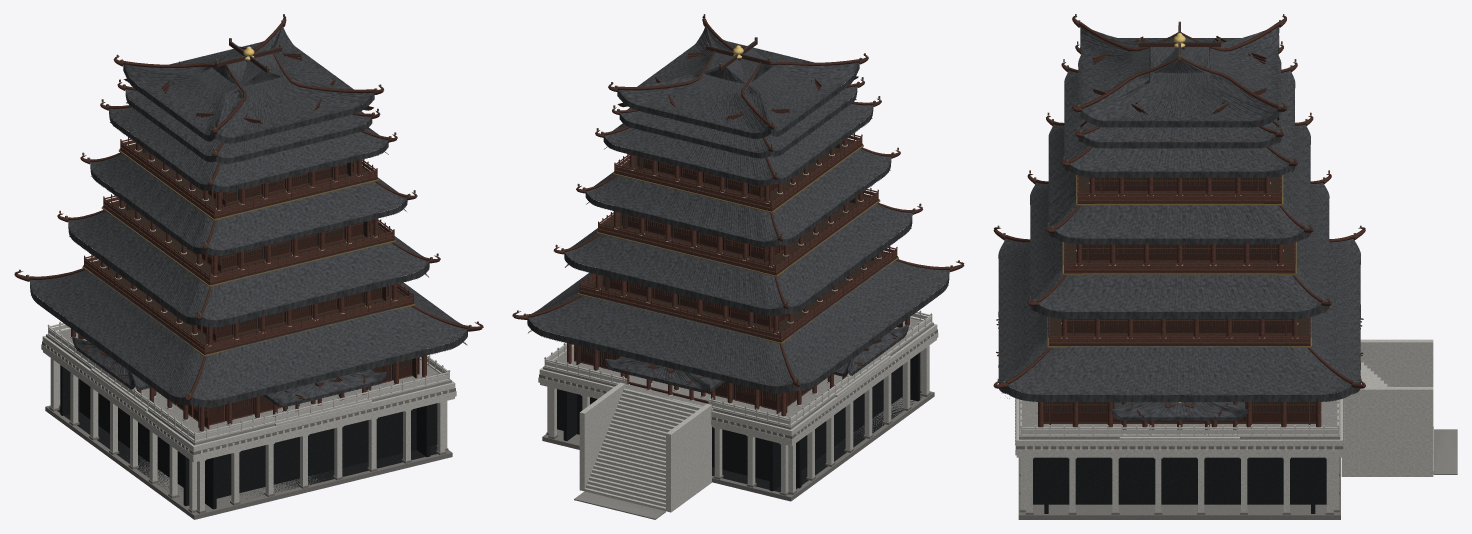
3 views of the same model, side by side, from view 1: azimuth 30°, elevation 25°; view 2: azimuth 150°, elevation 25°; view 3: azimuth 270°, elevation 25° (orthographic). The views are drawn at different scales.
Visible parts, largest first — view 1: Pavilion_Roof, Podium, Pavilion_Body, Pavilion_Detail; view 2: Pavilion_Roof, Podium, Pavilion_Body, Pavilion_Detail, EntranceLanding; view 3: Pavilion_Roof, Podium, Pavilion_Body, Pavilion_Detail, EntranceLanding.
Part boxes in pixels (bbox=[...]): Pavilion_Roof: bbox=[30, 26, 467, 407]; Podium: bbox=[41, 321, 456, 519]; Pavilion_Body: bbox=[70, 111, 427, 432]; Pavilion_Detail: bbox=[14, 14, 483, 401]; Pavilion_Roof: bbox=[527, 25, 949, 393]; Podium: bbox=[538, 310, 938, 512]; Pavilion_Body: bbox=[566, 107, 910, 417]; Pavilion_Detail: bbox=[512, 14, 964, 387]; EntranceLanding: bbox=[574, 491, 665, 519]; Pavilion_Roof: bbox=[996, 26, 1363, 420]; Podium: bbox=[1015, 339, 1433, 519]; Pavilion_Body: bbox=[1037, 120, 1334, 440]; Pavilion_Detail: bbox=[993, 14, 1365, 402]; EntranceLanding: bbox=[1433, 429, 1457, 474].
Bounding box in the file's own units: 40.23 × 50 × 50.12.
Materials: 12 (12 with a texture image).
